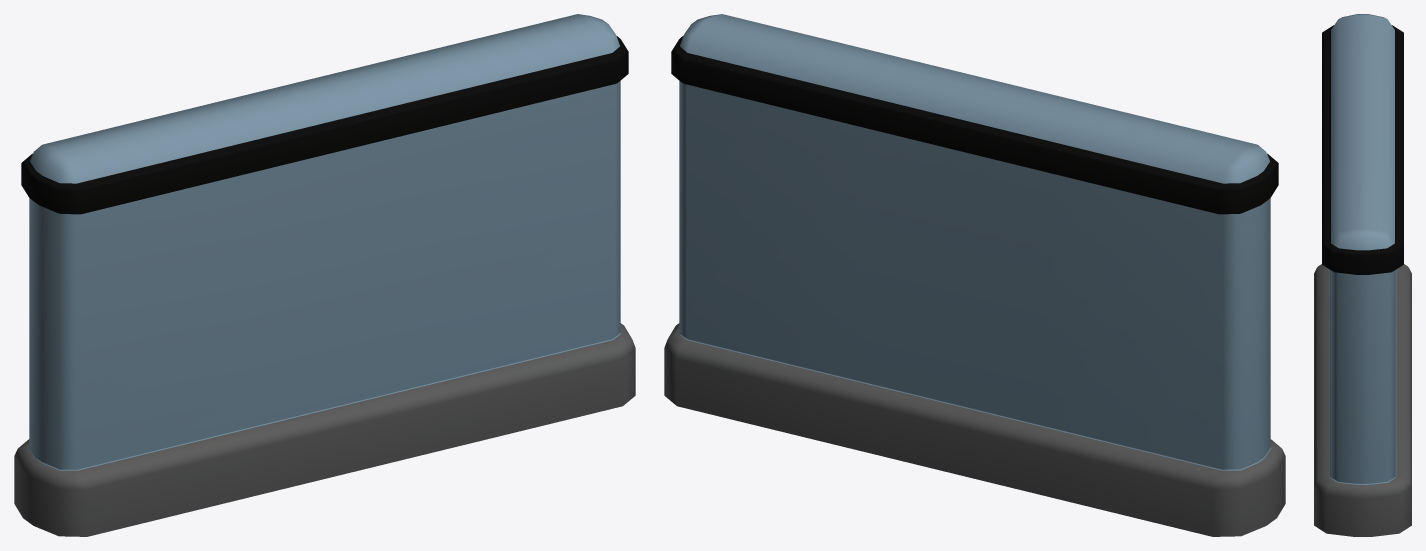
File: Env1_Wall_Purple.fbx
3 renders of one model, left to right at view 1: azimuth 30°, elevation 25°; view 2: azimuth 150°, elevation 25°; view 3: azimuth 270°, elevation 25°, orthographic. The views are drawn at different scales.
Parts seen in each view (by area): view 1: Env1_Wall; view 2: Env1_Wall; view 3: Env1_Wall.
Part boxes in pixels (x1,y1,x2,y2): Env1_Wall: [14, 14, 635, 536]; Env1_Wall: [664, 14, 1285, 536]; Env1_Wall: [1314, 14, 1411, 536].
Bounding box in the file's own units: 332 × 195 × 58.24.
